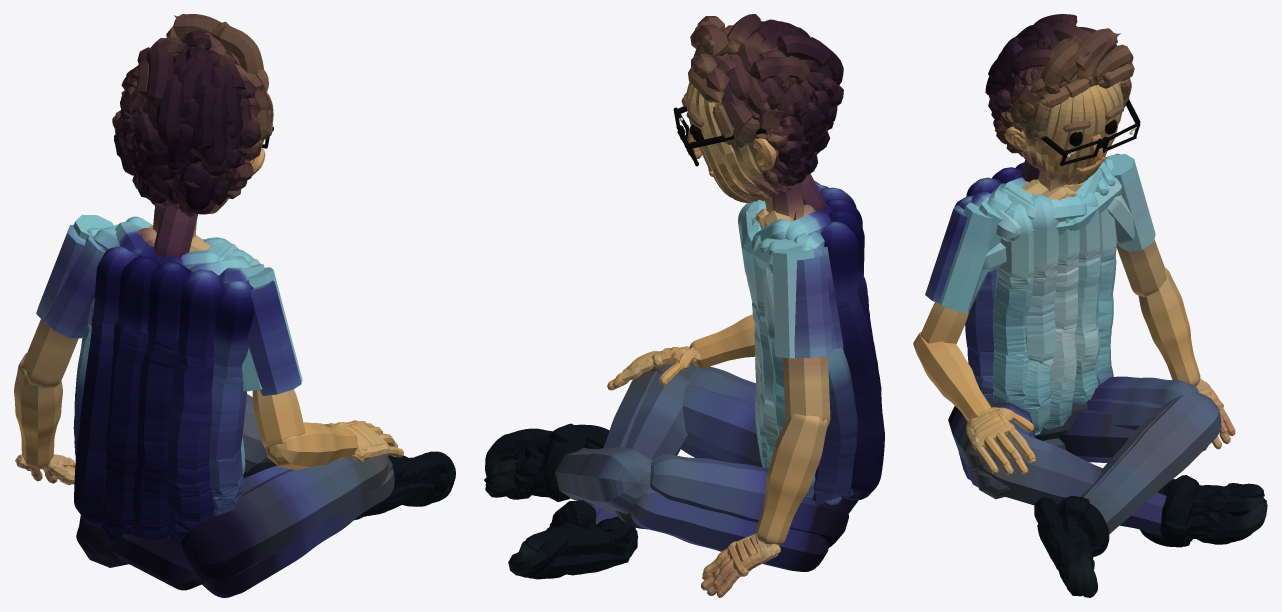
The model's file is Dad.fbx.
3 views of the same model, side by side, from view 1: azimuth 30°, elevation 25°; view 2: azimuth 150°, elevation 25°; view 3: azimuth 270°, elevation 25° (orthographic). The views are drawn at different scales.
Parts seen in each view (by area): view 1: first_drawing; view 2: first_drawing; view 3: first_drawing.
Boxes of the visible parts, bbox=[...] form: first_drawing: bbox=[14, 14, 455, 597]; first_drawing: bbox=[484, 14, 884, 597]; first_drawing: bbox=[913, 14, 1267, 597].
Size of the model in its own units: 1.62 by 2.18 by 1.46.
